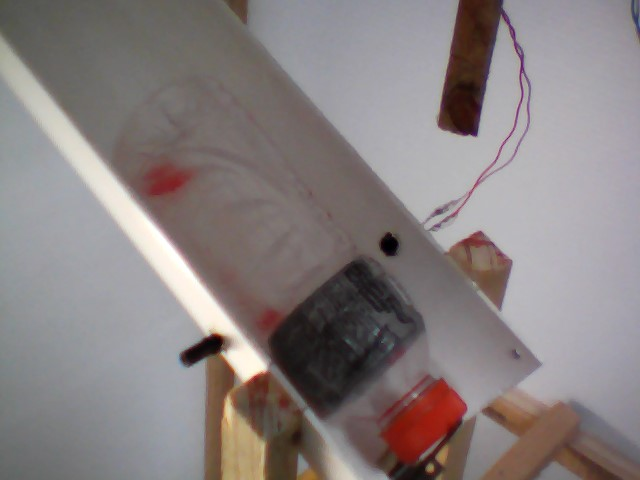plastico: (97, 66, 476, 480)
